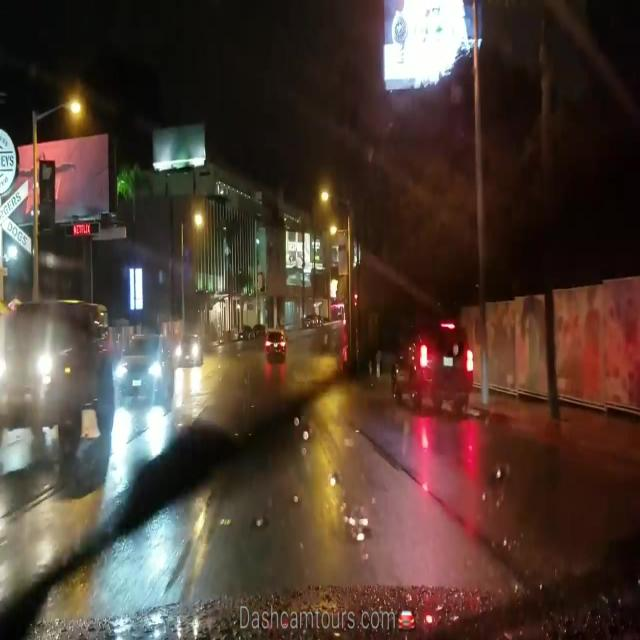Car: (4, 298, 109, 455), (388, 323, 474, 409), (111, 335, 170, 404), (264, 325, 285, 360), (178, 330, 199, 362)
